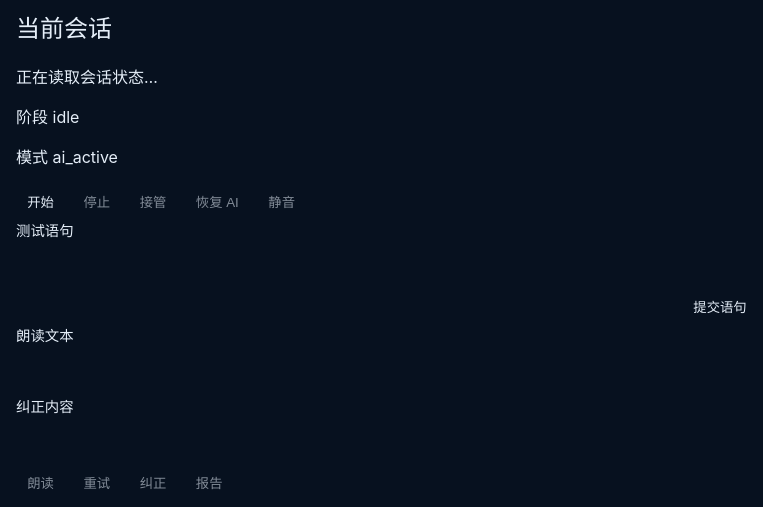
Scenario: WorkspaceSession › starts a session and shows the listening phase
Click the button "开始": {"x": 40, "y": 201} x1=16 y1=184 x2=65 y2=219
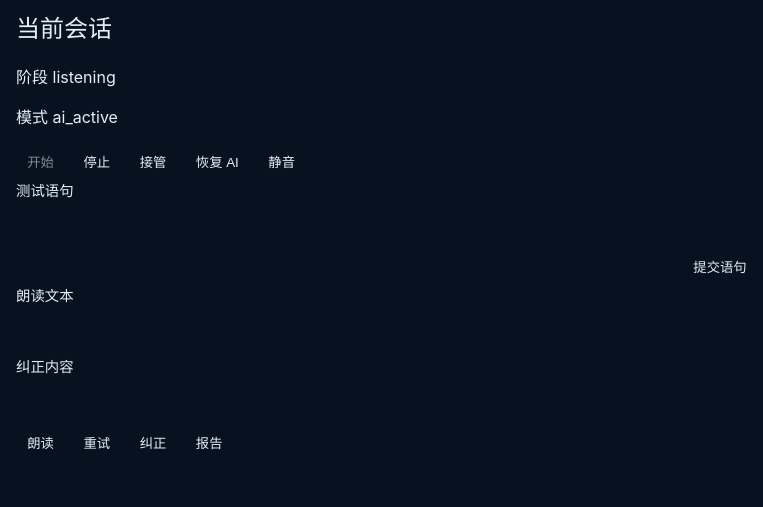
Check: the text "listening" is shown, box x1=52 y1=67 x2=116 y2=87
Check: the button "开始" is disabled, box x1=16 y1=144 x2=65 y2=179
Check: the button "停止" is enabled, box x1=72 y1=144 x2=121 y2=179
